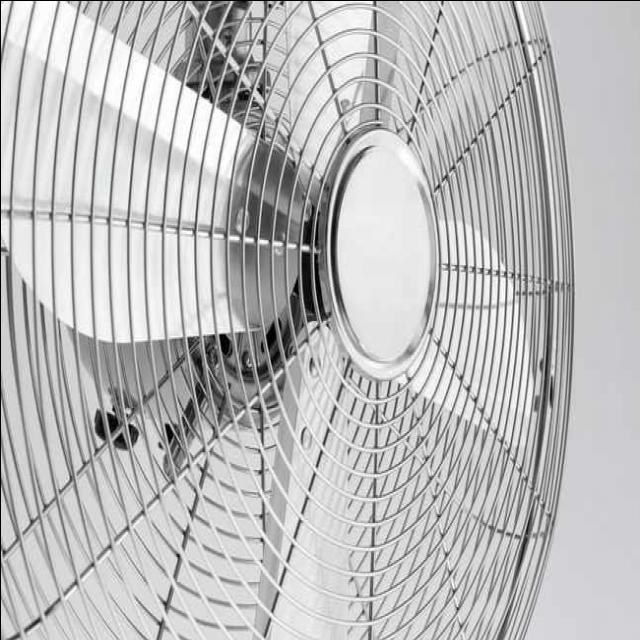fan: (3, 1, 574, 640)
